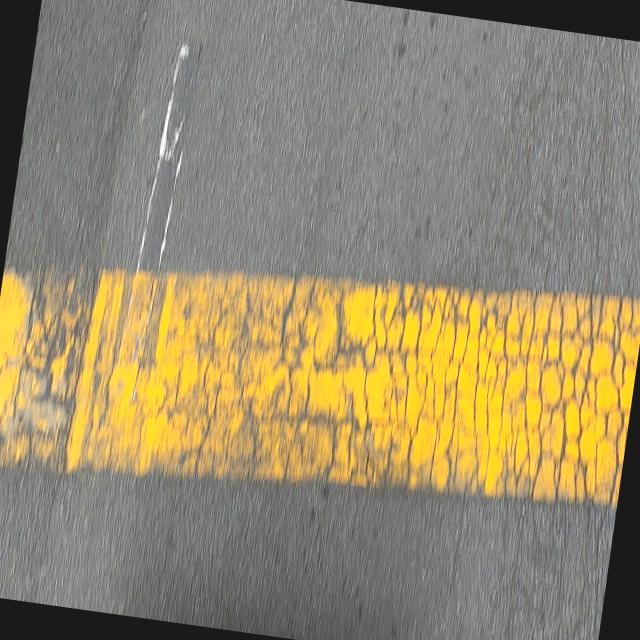Retak-Buaya: (172, 273, 640, 511), (0, 269, 96, 466)
